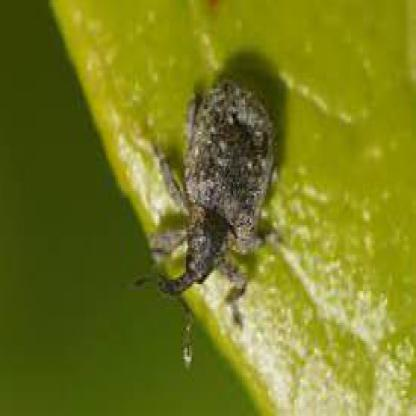ash weevil: (152, 83, 280, 298)
